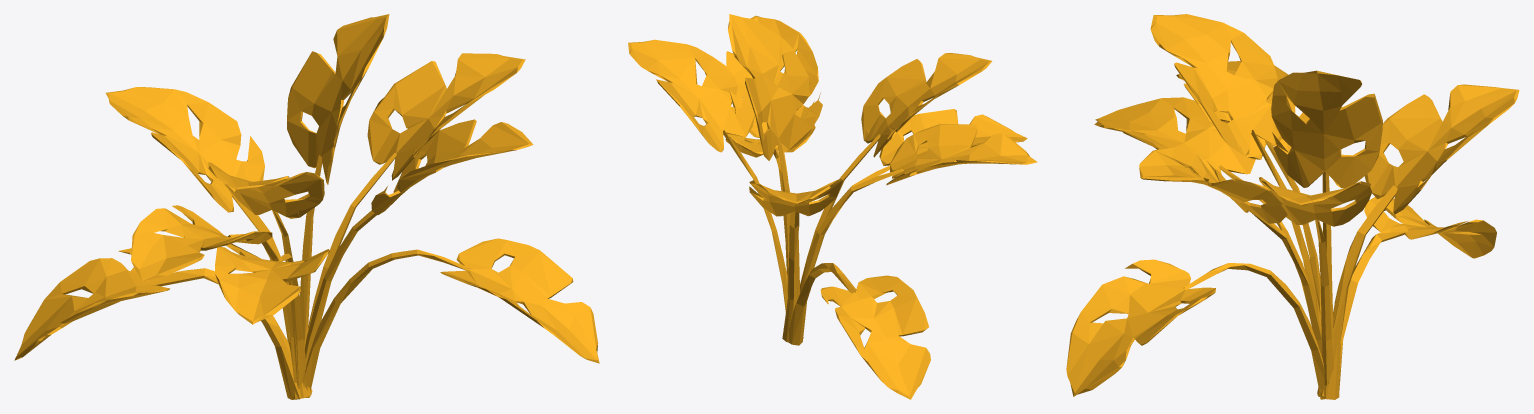
Rendered from ShrubPalmTropical03.fbx.
3 renders of one model, left to right at view 1: azimuth 30°, elevation 25°; view 2: azimuth 150°, elevation 25°; view 3: azimuth 270°, elevation 25°, orthographic. The views are drawn at different scales.
Parts seen in each view (by area): view 1: ShrubPalmTropical03_LOD0; view 2: ShrubPalmTropical03_LOD0; view 3: ShrubPalmTropical03_LOD0.
Boxes of the visible parts, left/top/right/bottom form: ShrubPalmTropical03_LOD0: left=14, top=14, right=599, bottom=399; ShrubPalmTropical03_LOD0: left=628, top=14, right=1037, bottom=399; ShrubPalmTropical03_LOD0: left=1066, top=14, right=1519, bottom=399.
Size of what is drawn, in the model's own units: 148 by 119 by 133.
